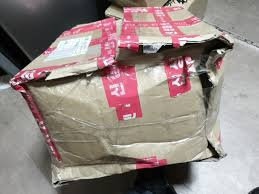damaged package: (10, 63, 117, 89), (121, 34, 233, 55), (198, 54, 216, 112)
